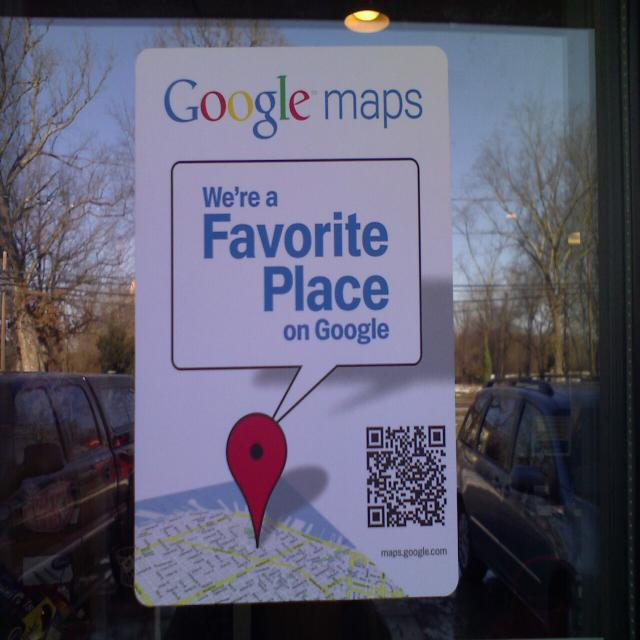qrcode: (368, 427, 448, 528)
